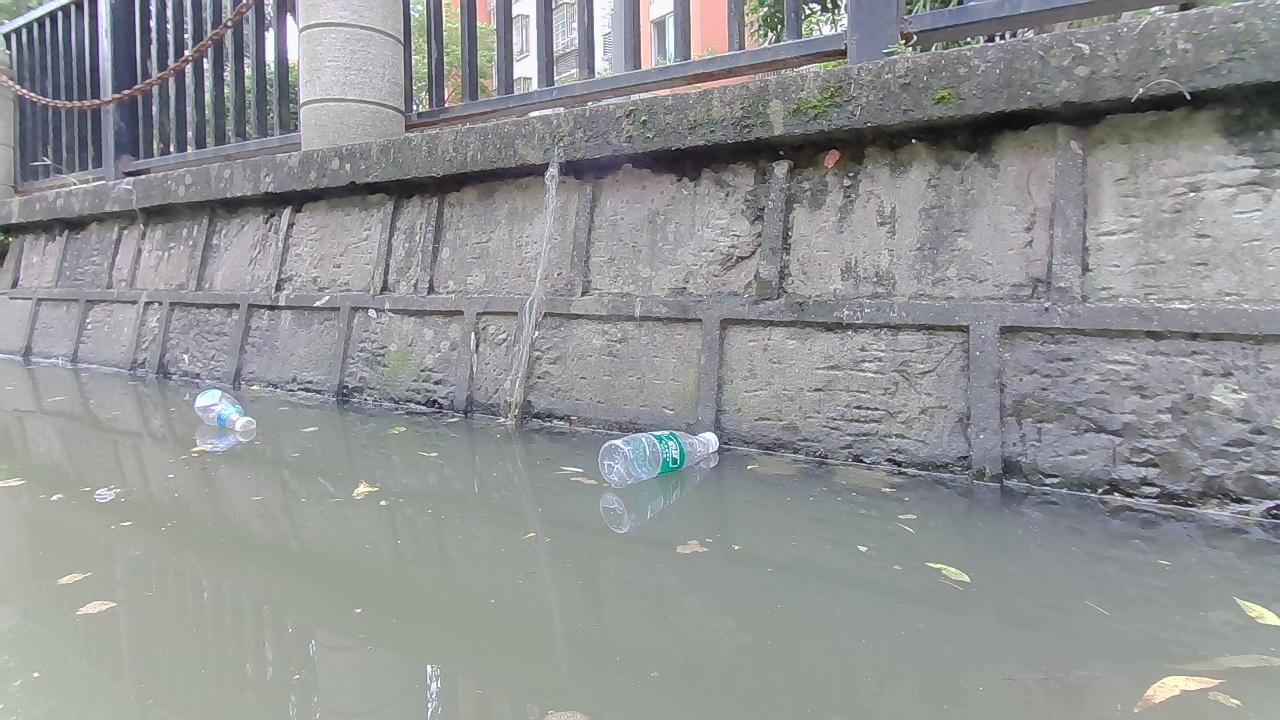bottle: (598, 425, 719, 484), (192, 387, 253, 431)
